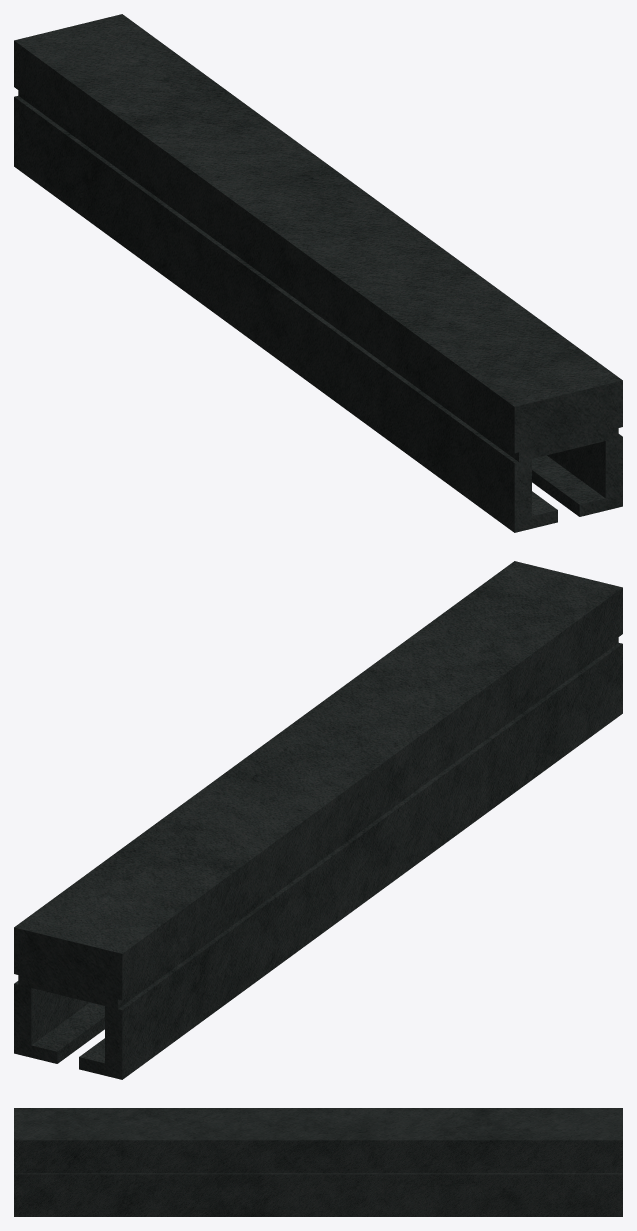
Rendered from Rail_s.fbx.
3 renders of one model, top to bottom at view 1: azimuth 30°, elevation 25°; view 2: azimuth 150°, elevation 25°; view 3: azimuth 270°, elevation 25°, orthographic. The views are drawn at different scales.
Visible parts, largest first — view 1: Box001; view 2: Box001; view 3: Box001.
Boxes of the visible parts, <box> form: Box001: <box>14,14,622,532</box>; Box001: <box>14,561,622,1079</box>; Box001: <box>14,1108,622,1216</box>.
Bounding box in the file's own units: 50 × 55.57 × 400.
